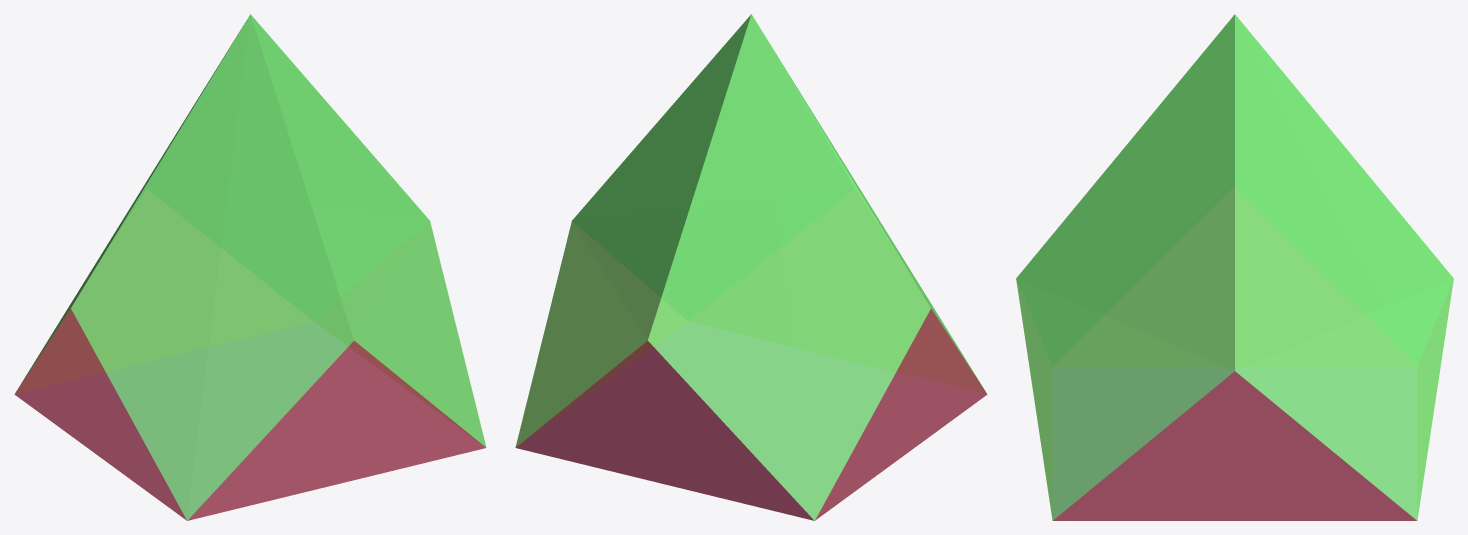
Rendered from Goddard-HenningEnneahedron_n.obj.
3 renders of one model, left to right at view 1: azimuth 30°, elevation 25°; view 2: azimuth 150°, elevation 25°; view 3: azimuth 270°, elevation 25°, orthographic. The views are drawn at different scales.
Size of the model in its own units: 6 by 6.5 by 6.
